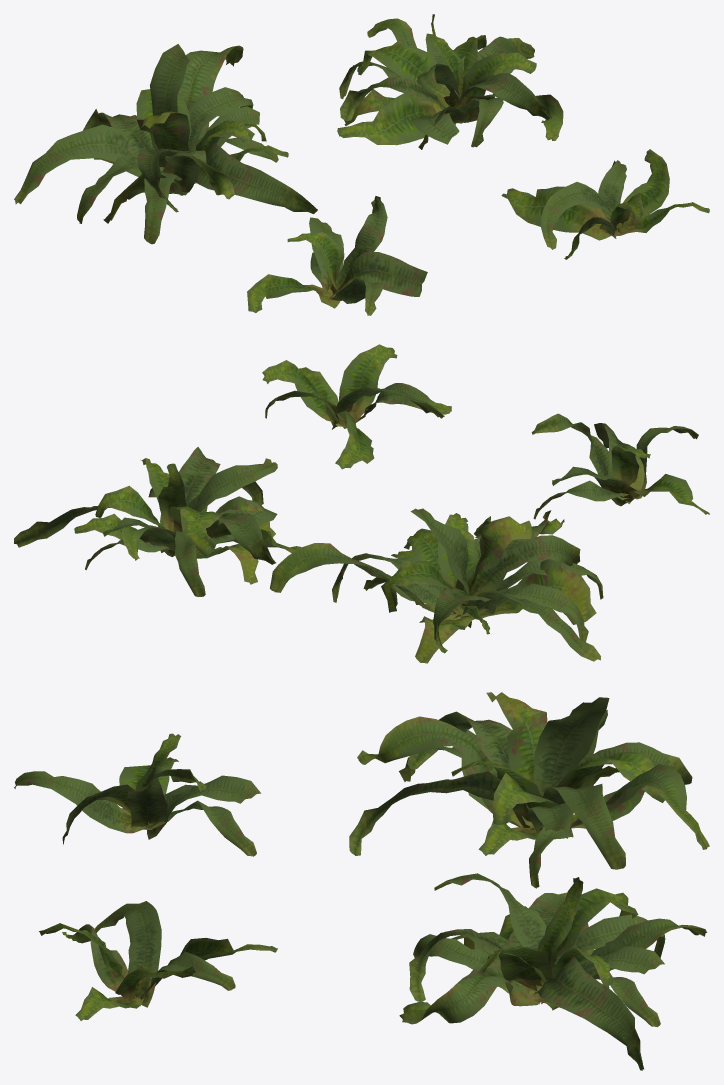
File: fern-02.glb
The picture shows the model from 3 angles, top to bottom: view 1: azimuth 30°, elevation 25°; view 2: azimuth 150°, elevation 25°; view 3: azimuth 270°, elevation 25°; orthographic projection. The views are drawn at different scales.
Parts seen in each view (by area): view 1: fern_02_b; view 2: fern_02_b; view 3: fern_02_b.
Boxes of the visible parts, left/top/right/bottom form: fern_02_b: left=14, top=14, right=709, bottom=315; fern_02_b: left=14, top=344, right=709, bottom=663; fern_02_b: left=14, top=692, right=709, bottom=1070.
Bounding box in the file's own units: 1.97 × 0.4277 × 1.72.
1 material, 1 textured.
